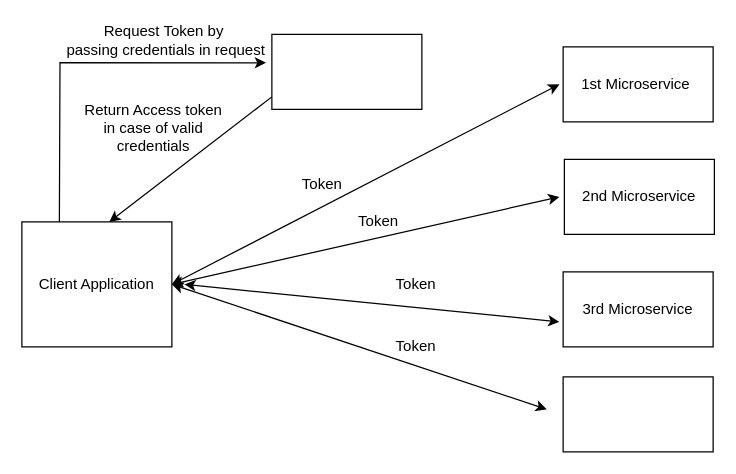
The diagram is 736 pixels wide and 474 high, and some of its shapes have lost their labels. Here are the shapes that lost their labels. From the top down, the centre of each, then its label:
point 346,71: Identity Server
point 637,414: 4th Microservice
